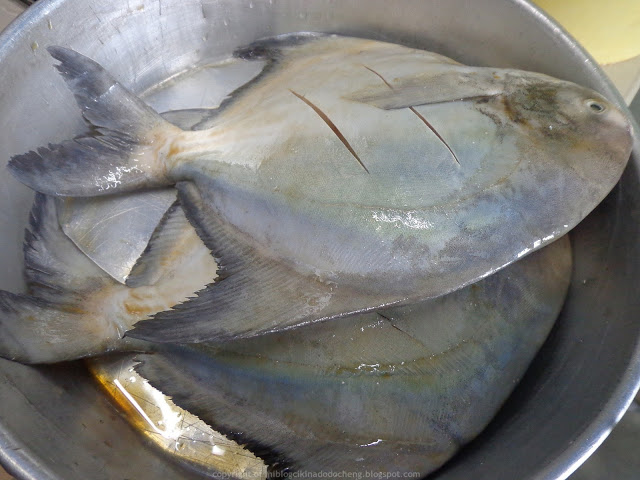Ikan Bawal: (32, 23, 634, 286)
